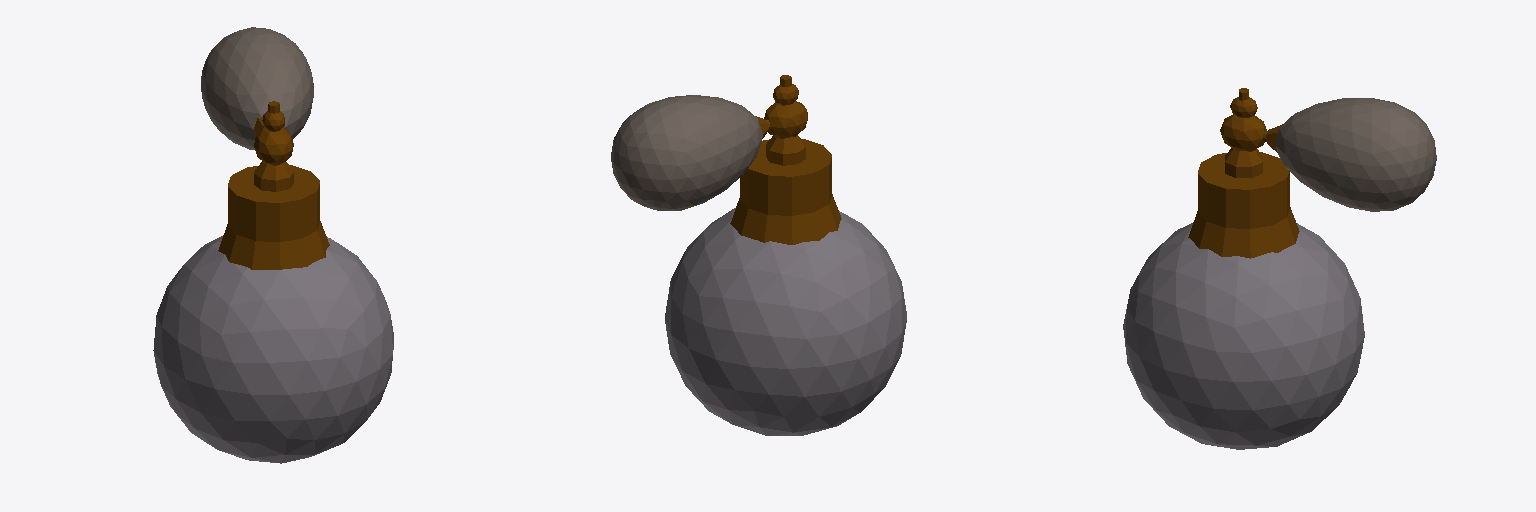
Rendered from PerfumeBottle.obj.
3 renders of one model, left to right at view 1: azimuth 30°, elevation 25°; view 2: azimuth 150°, elevation 25°; view 3: azimuth 270°, elevation 25°, orthographic.
Parts seen in each view (by area): view 1: Icosphere.001_Icosphere.002; view 2: Icosphere.001_Icosphere.002; view 3: Icosphere.001_Icosphere.002.
Part boxes in pixels (x1,y1,x2,y2): Icosphere.001_Icosphere.002: (153,27,393,463); Icosphere.001_Icosphere.002: (611,75,906,435); Icosphere.001_Icosphere.002: (1123,88,1436,449).
Bounding box in the file's own units: 2.24 × 3.58 × 2.9.